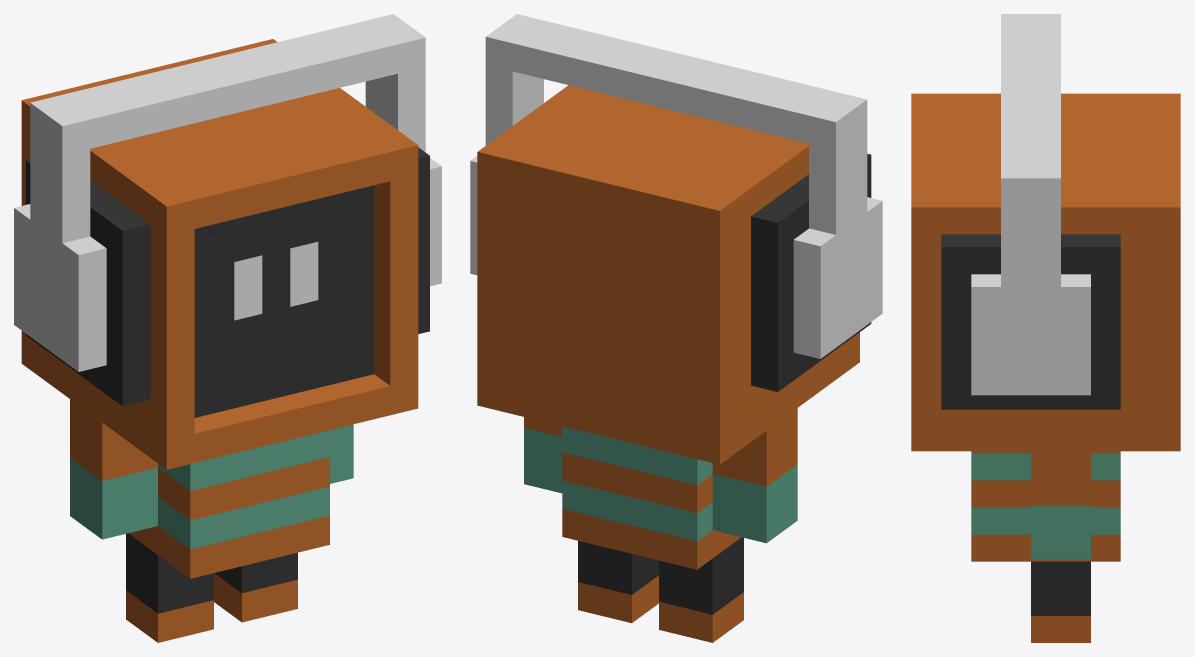
File: lv21_robot.fbx
The picture shows the model from 3 angles, left to right: view 1: azimuth 30°, elevation 25°; view 2: azimuth 150°, elevation 25°; view 3: azimuth 270°, elevation 25°; orthographic projection. The views are drawn at different scales.
Parts seen in each view (by area): view 1: pCube933, pCube1102, pCube1098, pCube720, pCube899, pCube912, pCube535, pCube911, pCube657, pCube511, pCube557, pCube545 (+128 smaller); view 2: pCube1036, pCube935, pCube1061, pCube846, pCube1042, pCube1050, pCube1011, pCube1052, pCube199, pCube165, pCube930, pCube940 (+142 smaller); view 3: pCube922, pCube728, pCube727, pCube821, pCube740, pCube718, pCube726, pCube724, pCube927, pCube944, pCube923, pCube945 (+143 smaller).
Part boxes in pixels (box(x1,y1,x2,y2)): pCube933: box(62, 236, 106, 284); pCube1102: box(106, 212, 150, 259); pCube1098: box(46, 107, 90, 155); pCube720: box(150, 188, 194, 235); pCube899: box(62, 331, 106, 371); pCube912: box(106, 336, 150, 376); pCube535: box(150, 370, 194, 411); pCube911: box(106, 366, 150, 406); pCube657: box(150, 224, 194, 264); pCube511: box(150, 253, 194, 294); pCube557: box(150, 341, 194, 381); pCube545: box(150, 400, 194, 440); pCube1036: box(751, 205, 793, 250); pCube935: box(793, 228, 835, 274); pCube1061: box(809, 104, 851, 150); pCube846: box(693, 193, 735, 238); pCube1042: box(739, 476, 782, 514); pCube1050: box(739, 447, 782, 486); pCube1011: box(685, 604, 728, 642); pCube1052: box(739, 504, 782, 543); pCube199: box(685, 575, 728, 614); pCube165: box(670, 530, 712, 569); pCube930: box(751, 296, 793, 335); pCube940: box(809, 167, 851, 206); pCube922: box(941, 234, 971, 274); pCube728: box(941, 194, 971, 234); pCube727: box(911, 194, 941, 234); pCube821: box(1150, 194, 1180, 234); pCube740: box(1120, 194, 1150, 234); pCube718: box(1091, 194, 1120, 234); pCube726: box(1061, 194, 1090, 234); pCube724: box(971, 194, 1000, 234); pCube927: box(1091, 234, 1120, 274); pCube944: box(1031, 165, 1060, 205); pCube923: box(971, 234, 1000, 274); pCube945: box(1001, 165, 1030, 205).
Bounding box in the file's own units: 13 × 19 × 9.
